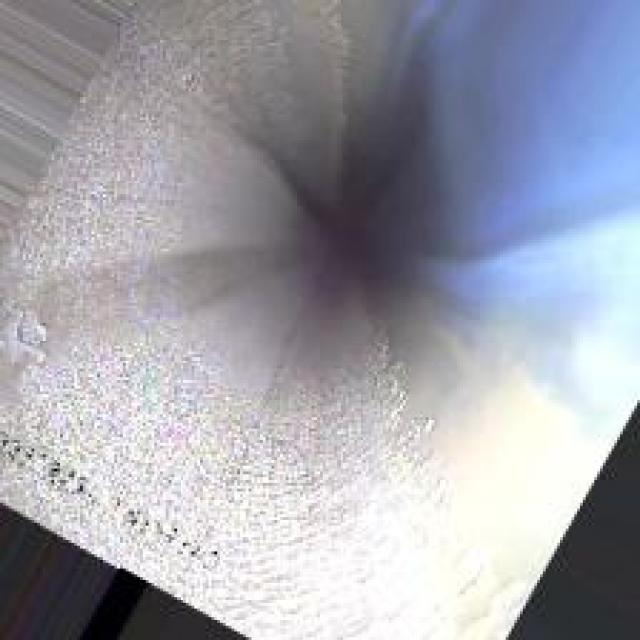ferrule: (3, 297, 51, 363)
